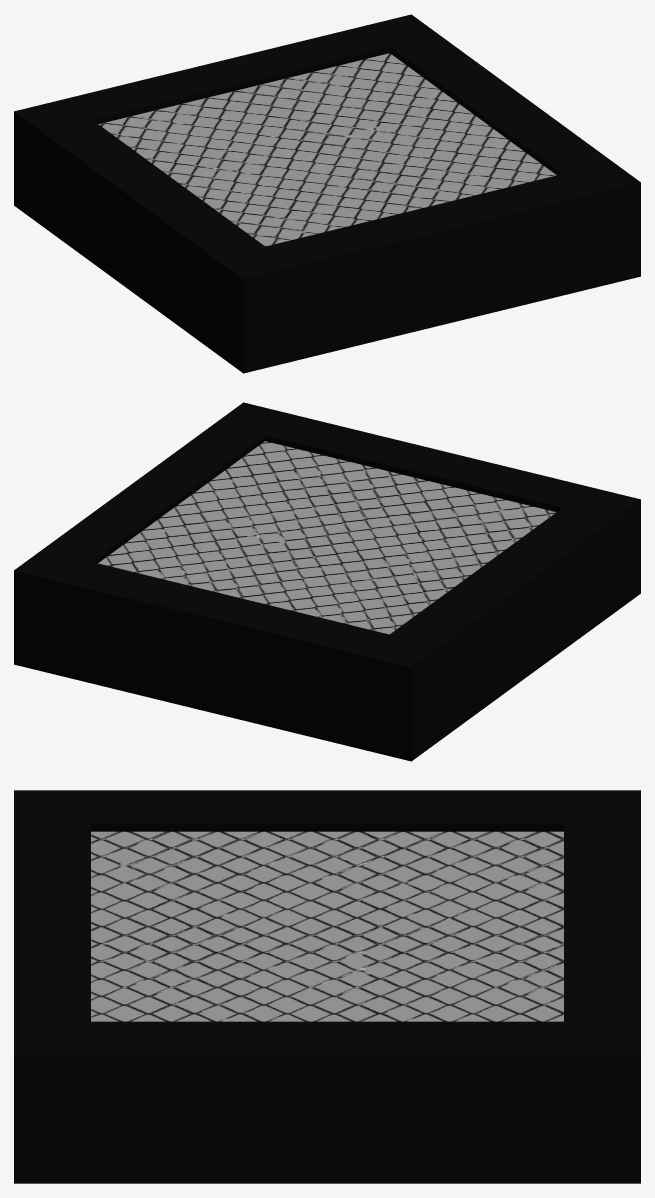
File: fanobj.obj
3 views of the same model, one above another, from view 1: azimuth 30°, elevation 25°; view 2: azimuth 150°, elevation 25°; view 3: azimuth 270°, elevation 25° (orthographic). The views are drawn at different scales.
Visible parts, largest first — view 1: pCube13, pPlane1; view 2: pCube13, pPlane1; view 3: pCube13, pPlane1.
Boxes of the visible parts, box(x1,y1,x2,y2) form: pCube13: box(14, 14, 640, 373); pPlane1: box(98, 53, 556, 246); pCube13: box(14, 402, 640, 761); pPlane1: box(98, 441, 556, 634); pCube13: box(14, 790, 640, 1183); pPlane1: box(91, 831, 563, 1021).
Size of the model in its own units: 3 by 0.6791 by 3.
